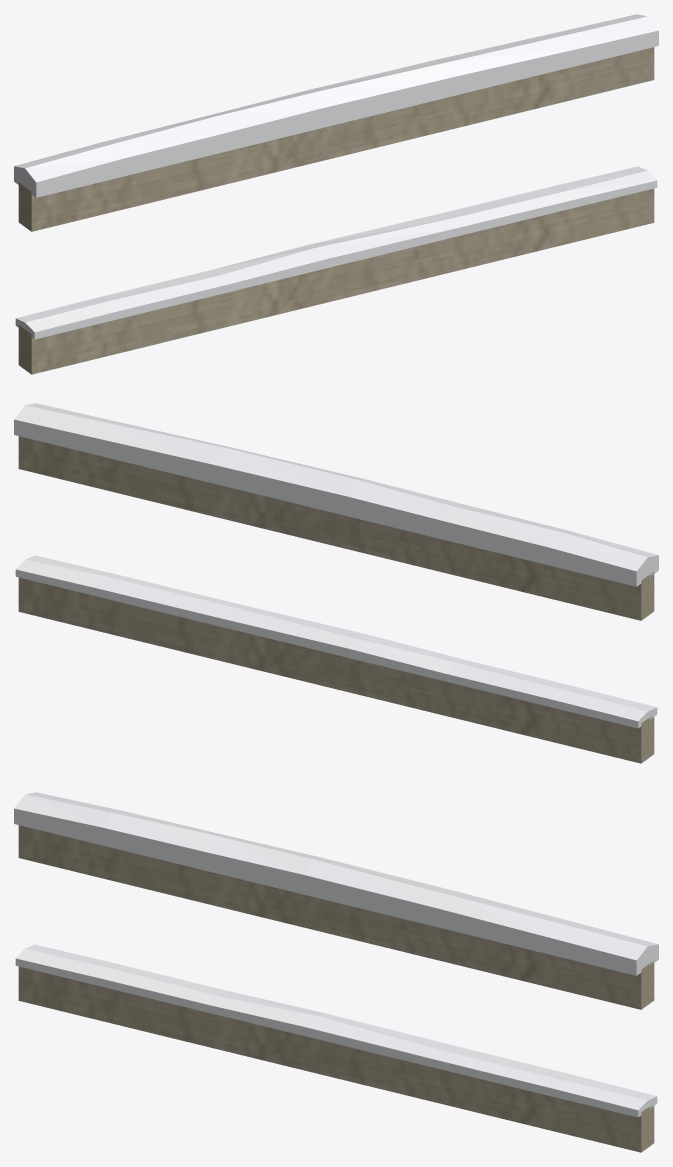
The model's file is fence_two_rail_section_snow.glb.
3 views of the same model, one above another, from view 1: azimuth 30°, elevation 25°; view 2: azimuth 150°, elevation 25°; view 3: azimuth 330°, elevation 25° (orthographic).
Visible parts, largest first — view 1: canonical_base, snow_accumulation; view 2: canonical_base, snow_accumulation; view 3: canonical_base, snow_accumulation.
Part boxes in pixels (box(x1,y1,x2,y2)): canonical_base: box(18, 47, 654, 374); snow_accumulation: box(14, 14, 658, 339); canonical_base: box(18, 436, 654, 763); snow_accumulation: box(14, 403, 658, 728); canonical_base: box(18, 825, 654, 1152); snow_accumulation: box(14, 792, 658, 1117).
Size of the model in its own units: 1.78 by 0.567 by 0.11.
2 materials, 1 textured.
